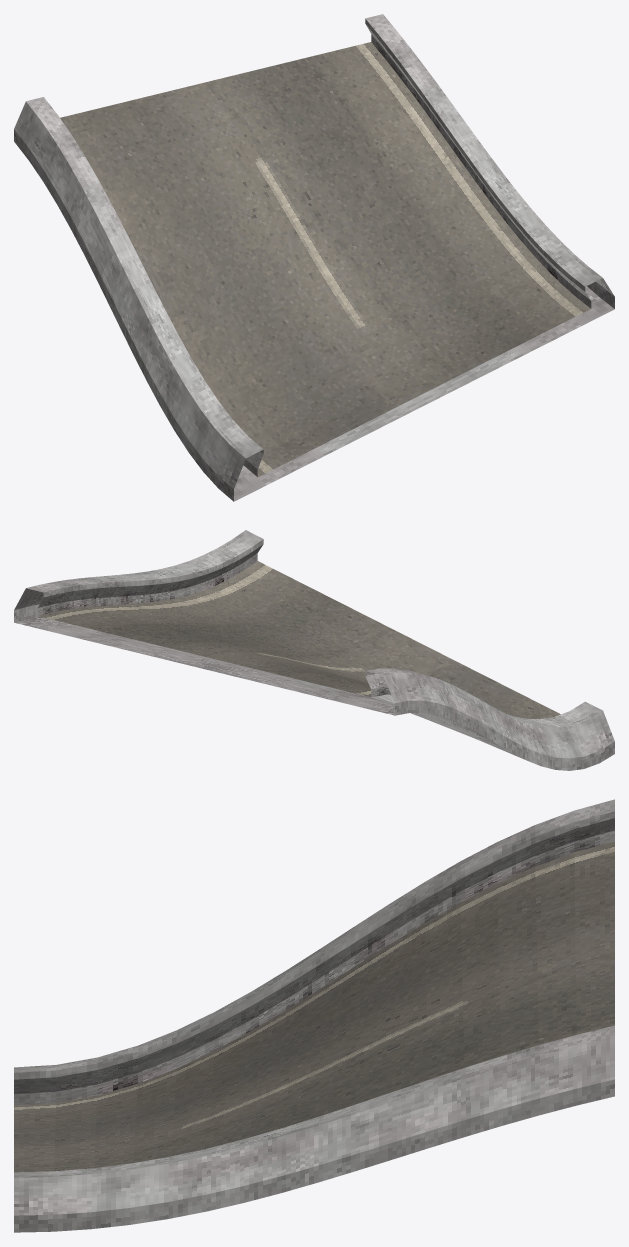
Rendered from road-Straight-HalfBankedLeft-BiSlopeUp-Up2-Center-Size1.glb.
3 renders of one model, top to bottom at view 1: azimuth 30°, elevation 25°; view 2: azimuth 150°, elevation 25°; view 3: azimuth 270°, elevation 25°, orthographic. The views are drawn at different scales.
Parts seen in each view (by area): view 1: road-Straight-HalfBankedLeft-BiSlopeUp-Up2-Center-Size1; view 2: road-Straight-HalfBankedLeft-BiSlopeUp-Up2-Center-Size1; view 3: road-Straight-HalfBankedLeft-BiSlopeUp-Up2-Center-Size1.
Boxes of the visible parts, x1,y1,x2,y2 form: road-Straight-HalfBankedLeft-BiSlopeUp-Up2-Center-Size1: (14,14,614,501); road-Straight-HalfBankedLeft-BiSlopeUp-Up2-Center-Size1: (14,530,614,770); road-Straight-HalfBankedLeft-BiSlopeUp-Up2-Center-Size1: (14,799,614,1232).
Size of the model in its own units: 1 by 0.5937 by 1.
2 materials, 2 textured.
